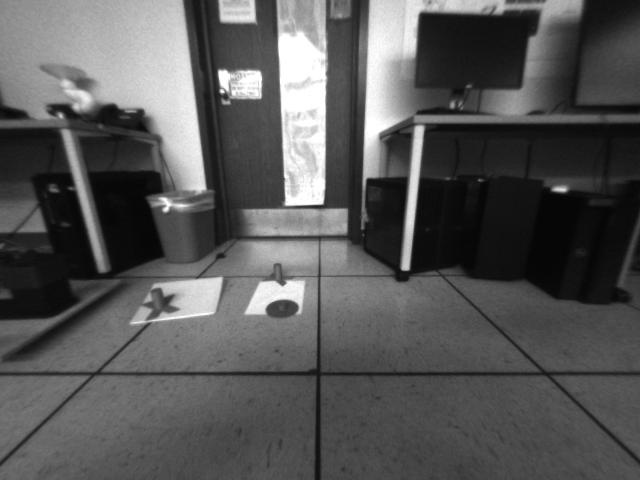X: (141, 285, 180, 321), (263, 262, 294, 285)
